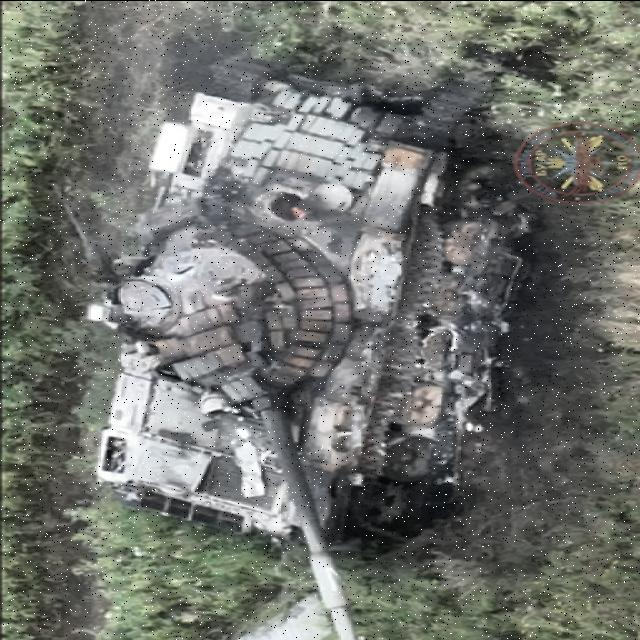TANK: (66, 60, 542, 640)
